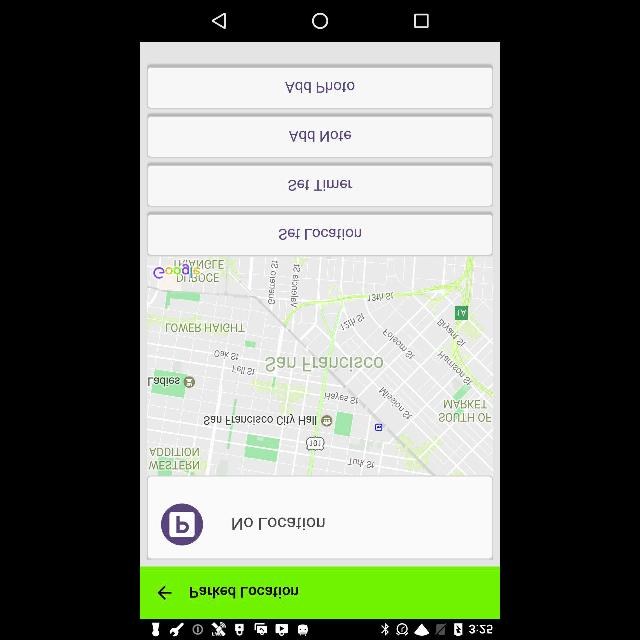icon: (162, 504, 202, 544), (312, 12, 328, 30), (212, 12, 226, 30), (158, 586, 172, 600), (414, 14, 428, 28)
map: (148, 256, 494, 476)
panel: (140, 1, 500, 42)
text: (286, 175, 354, 192), (232, 518, 324, 530), (190, 588, 298, 598), (278, 228, 364, 240), (288, 128, 352, 144), (286, 81, 356, 93)
textbutton: (148, 212, 494, 254), (148, 66, 494, 108), (148, 166, 494, 207), (148, 116, 494, 156)
toolbar: (140, 566, 500, 618)
uppertaskbar: (140, 620, 500, 640)
